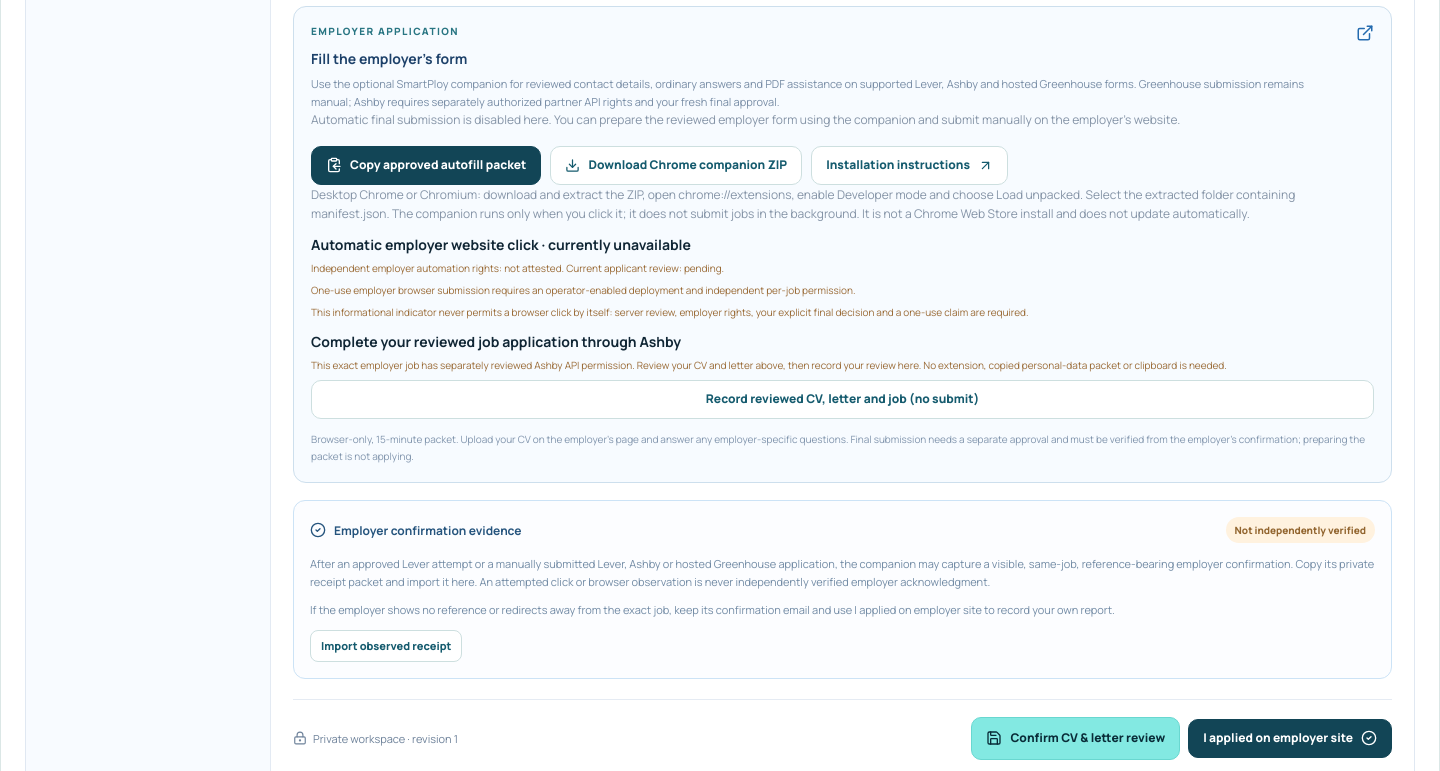
Scenario: Application Studio private-read account boundary › SP52 reviews and sends once to an independently authorized Ashby partner, never Lever
(page scrolled)
Expected: the element named "Official Ashby partner submission" shows "No extension, copied personal-data packet or clipboard", [563,358,1227,372]
Click the button "Record reviewed CV, letter and job (no submit)". click: [842, 400]
box: [311,380,1374,419]
(page scrolled)
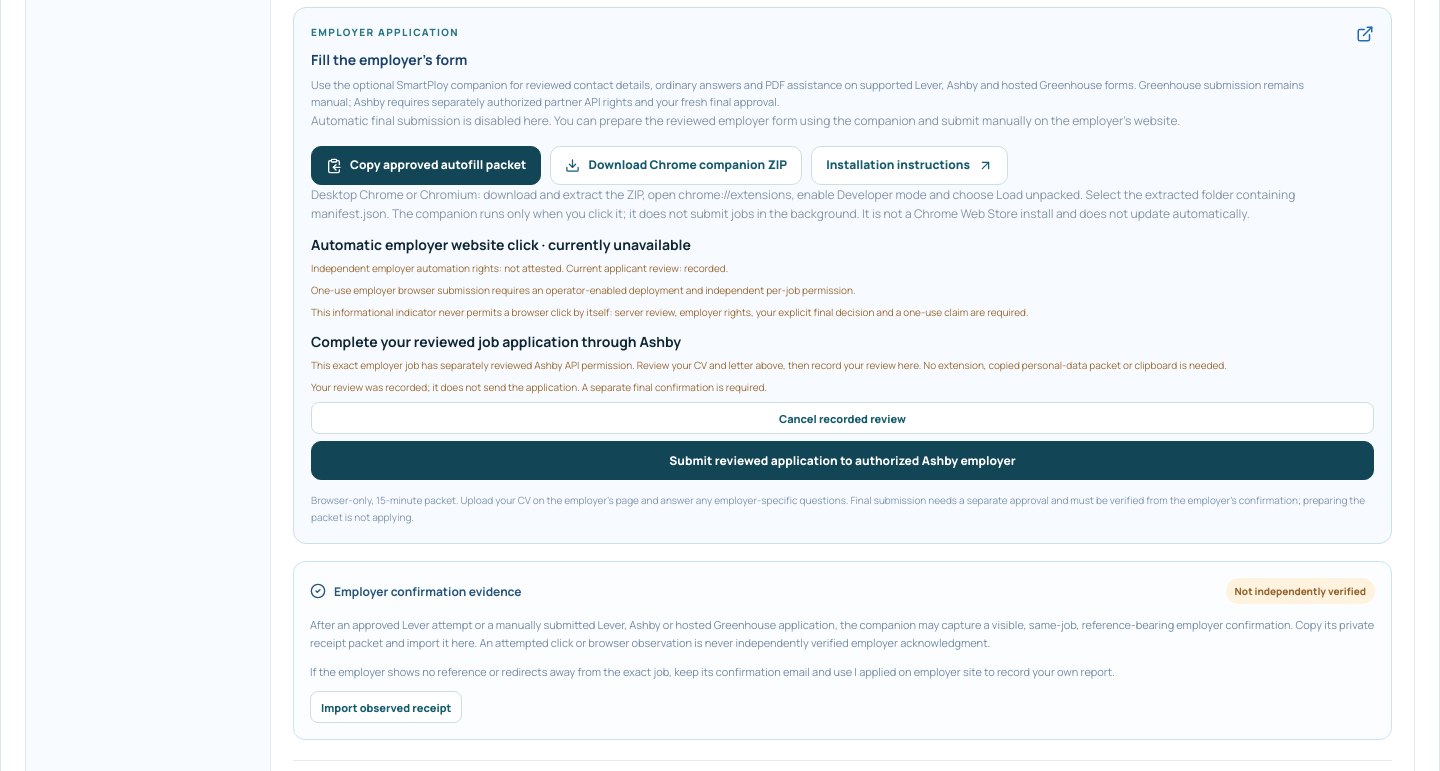
Click the button "Submit reviewed application to authorized Ashby employer". click: [842, 461]
box: [311,441,1374,480]
(page scrolled)
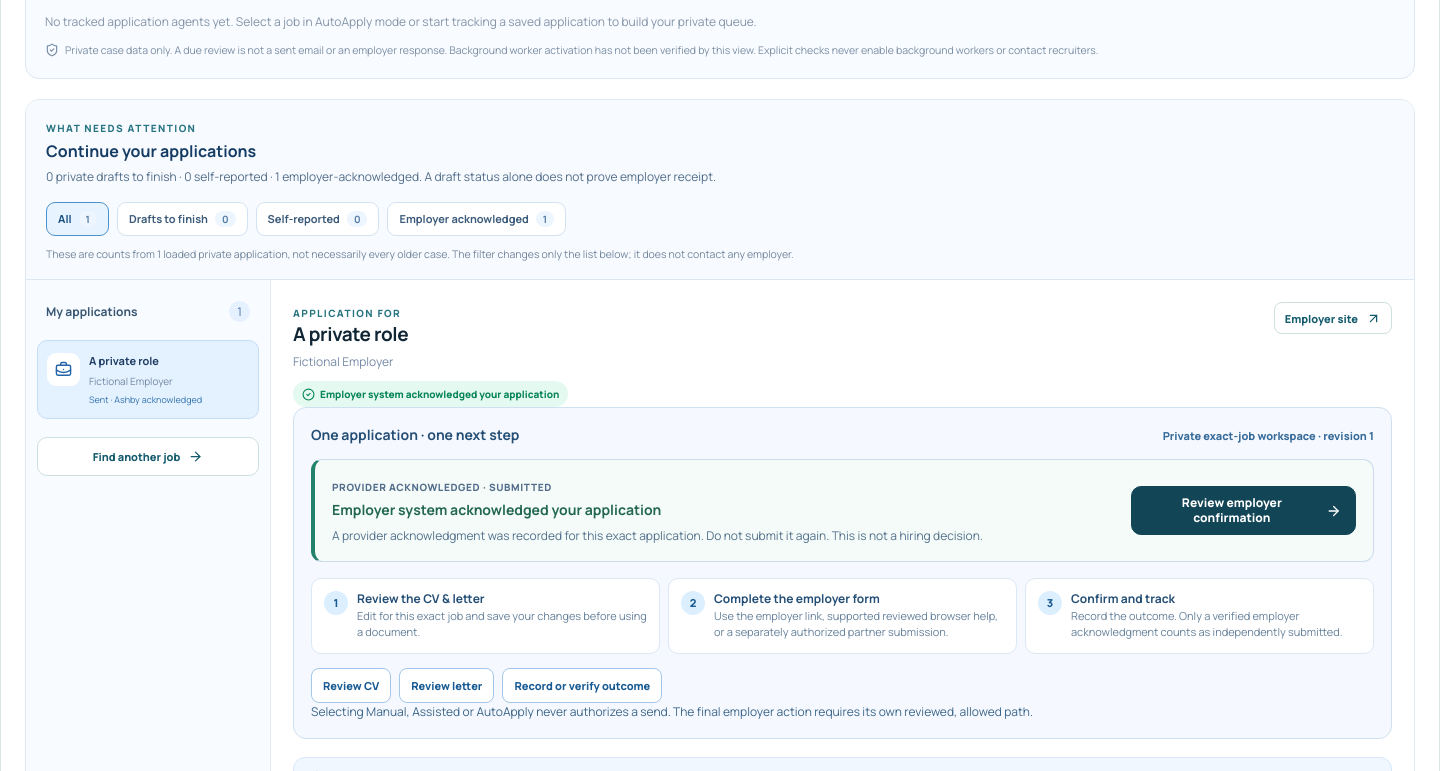
Now the text "Sent · Ashby acknowledged" is shown, box [89,393,202,406]
Now the button "Submit reviewed application to authorized Ashby employer" is gone
